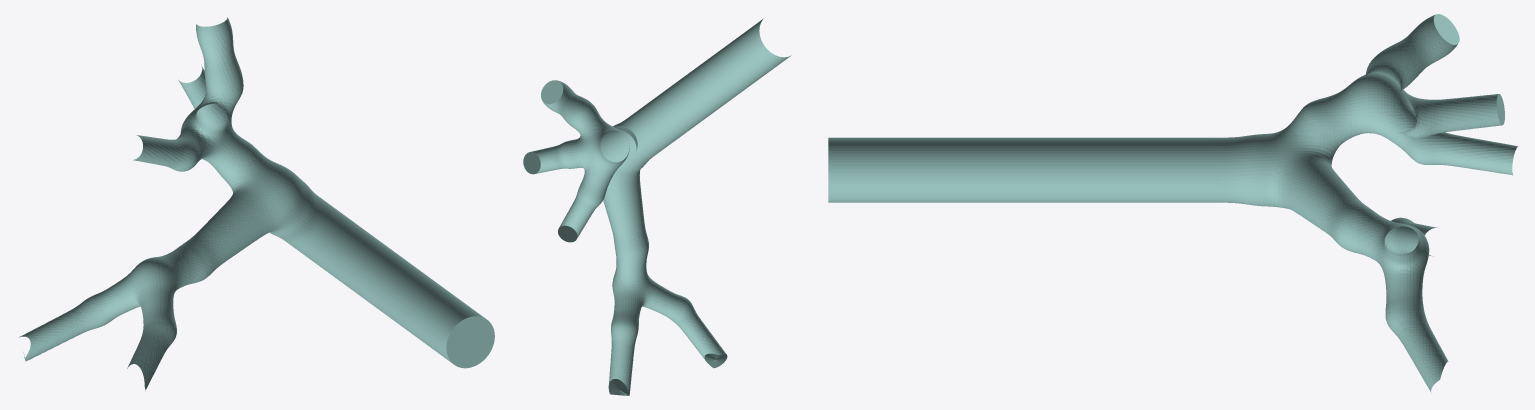
File: airway_stenosis.glb
3 renders of one model, left to right at view 1: azimuth 30°, elevation 25°; view 2: azimuth 150°, elevation 25°; view 3: azimuth 270°, elevation 25°, orthographic. The views are drawn at different scales.
Parts seen in each view (by area): view 1: airway_closed_validation_stenosis.stl; view 2: airway_closed_validation_stenosis.stl; view 3: airway_closed_validation_stenosis.stl.
Part boxes in pixels (x1,y1,x2,y2): airway_closed_validation_stenosis.stl: (19, 17, 494, 390); airway_closed_validation_stenosis.stl: (523, 18, 791, 395); airway_closed_validation_stenosis.stl: (828, 14, 1517, 392).
Size of the model in its own units: 0.0828 by 0.1284 by 0.1918.
